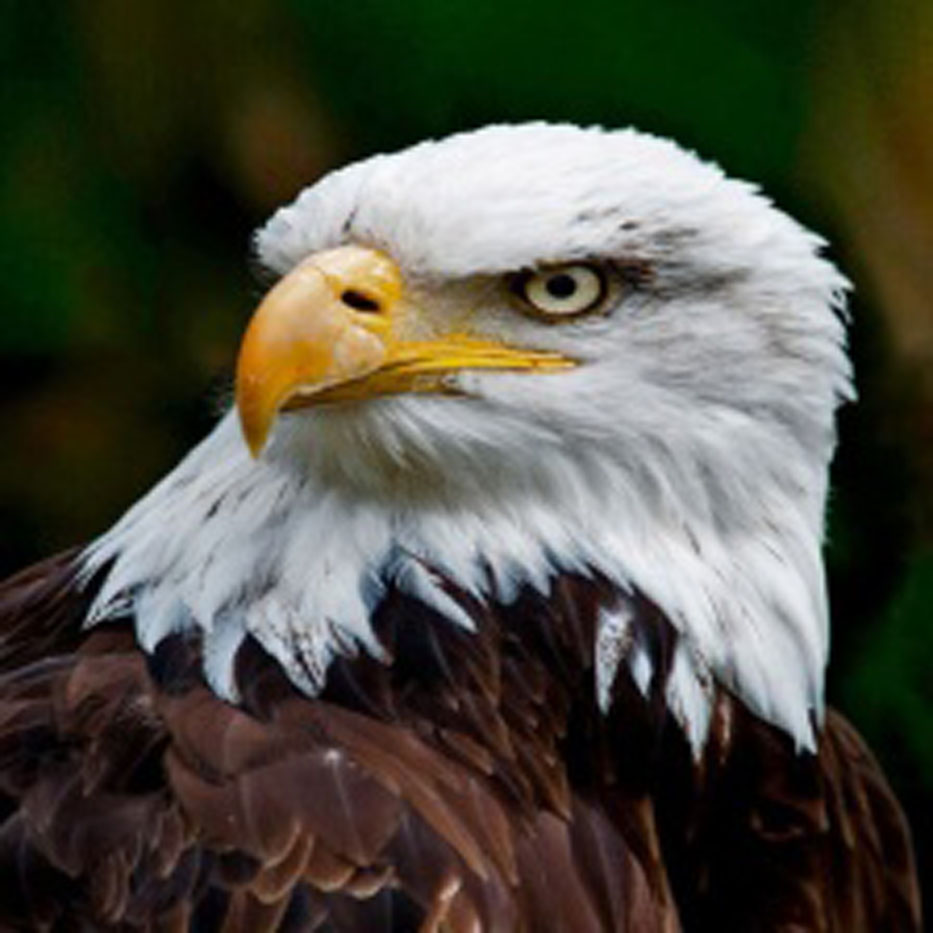Pengoyak Daging: (222, 261, 409, 480)
